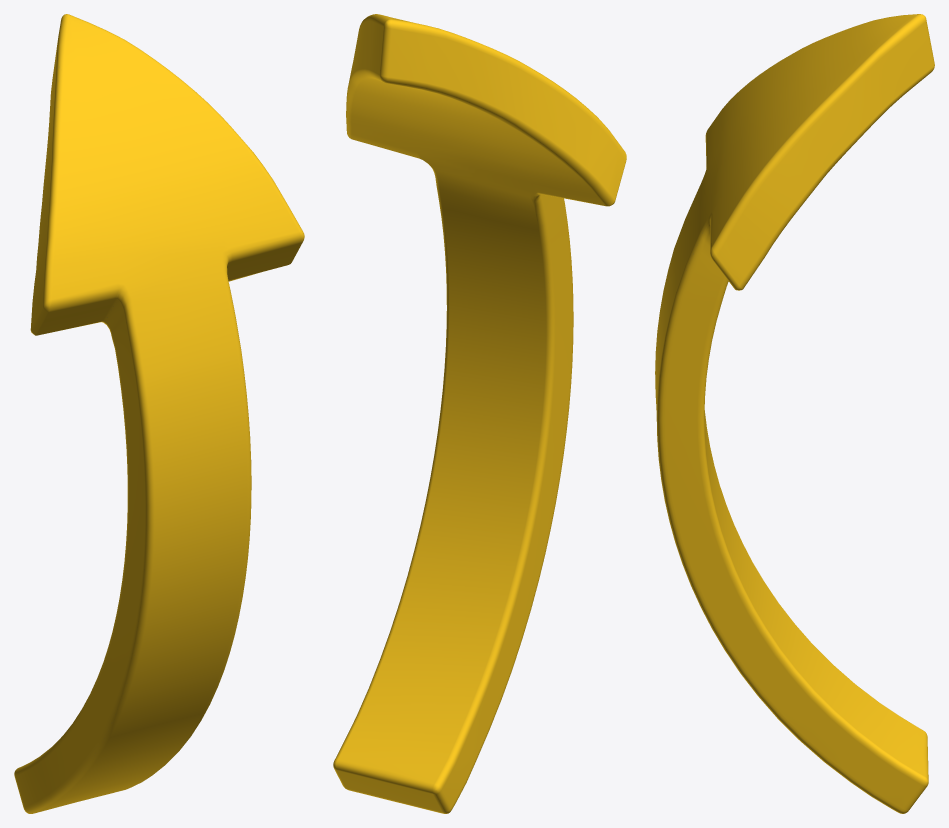
File: arrow_curved.fbx
The picture shows the model from 3 angles, left to right: view 1: azimuth 30°, elevation 25°; view 2: azimuth 150°, elevation 25°; view 3: azimuth 270°, elevation 25°; orthographic projection.
Parts seen in each view (by area): view 1: node_id40; view 2: node_id40; view 3: node_id40.
Boxes of the visible parts, x1,y1,x2,y2 form: node_id40: [14, 14, 304, 813]; node_id40: [333, 14, 626, 813]; node_id40: [655, 14, 934, 813].
Bounding box in the file's own units: 0.4164 × 1.18 × 0.3851.
Materials: 1 (1 with a texture image).
